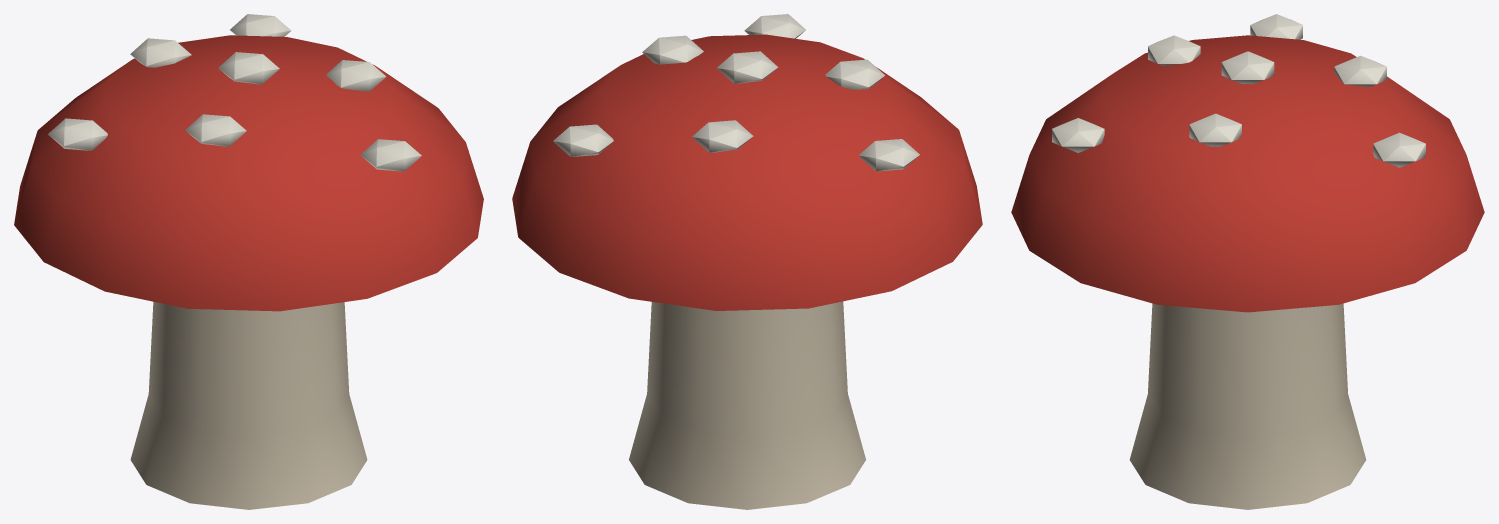
File: mushroom_stool.glb
3 views of the same model, side by side, from view 1: azimuth 30°, elevation 25°; view 2: azimuth 150°, elevation 25°; view 3: azimuth 270°, elevation 25° (orthographic).
Parts seen in each view (by area): view 1: furniture-mushroom_stool; view 2: furniture-mushroom_stool; view 3: furniture-mushroom_stool.
Part boxes in pixels (left/top/right/bottom): furniture-mushroom_stool: left=14, top=14, right=483, bottom=509; furniture-mushroom_stool: left=512, top=14, right=982, bottom=509; furniture-mushroom_stool: left=1011, top=14, right=1484, bottom=509.
Size of the model in its own units: 0.52 by 0.487 by 0.52.
